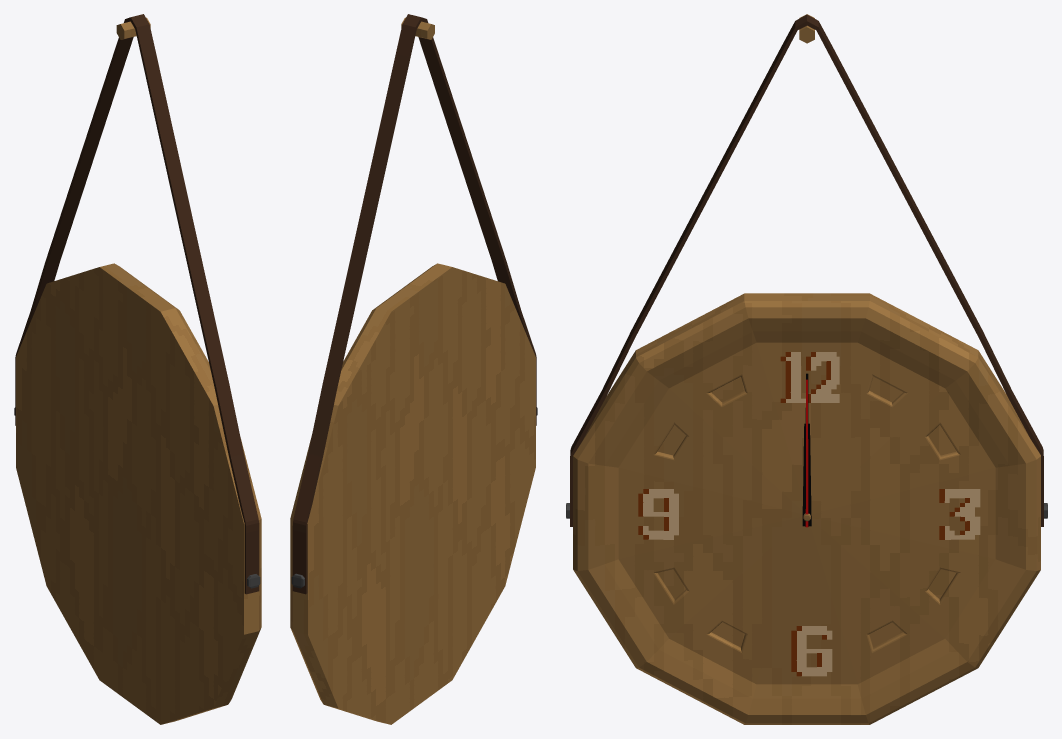
Rendered from wall_clock.fbx.
3 renders of one model, left to right at view 1: azimuth 30°, elevation 25°; view 2: azimuth 150°, elevation 25°; view 3: azimuth 270°, elevation 25°, orthographic. The views are drawn at different scales.
Visible parts, largest first — view 1: wall_clock; view 2: wall_clock; view 3: wall_clock.
Part boxes in pixels (box(x1,y1,x2,y2)): wall_clock: box(14, 14, 261, 724); wall_clock: box(290, 14, 537, 724); wall_clock: box(566, 14, 1047, 724).
Bounding box in the file's own units: 31.46 × 596 × 370.
Materials: 3 (1 with a texture image).
